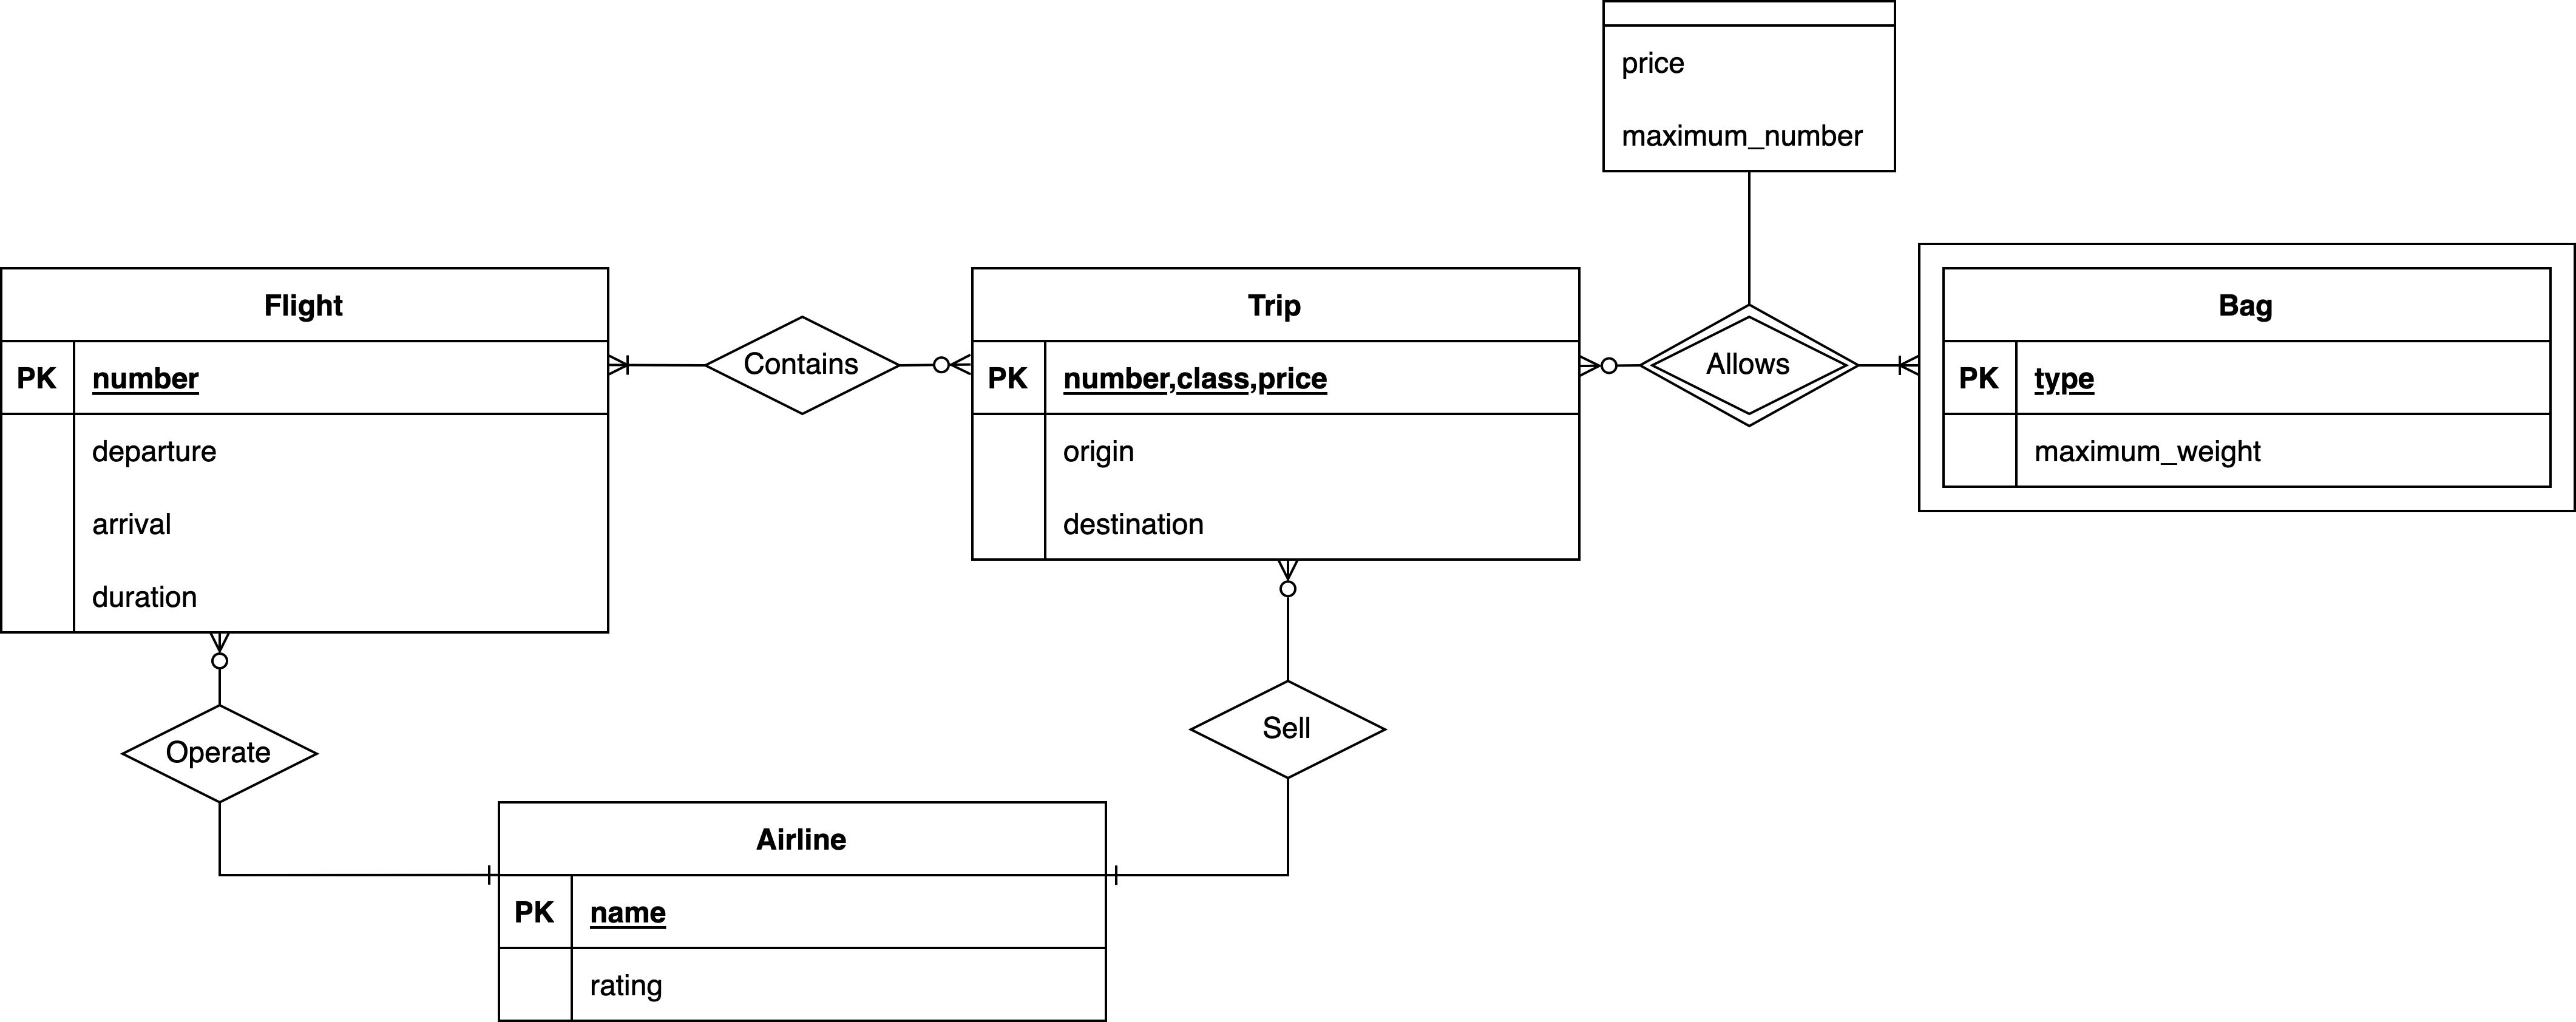entity: (0, 265, 613, 636), (963, 260, 1587, 565), (494, 800, 1107, 1022), (1600, 0, 1901, 179)
relationship: (708, 311, 899, 417), (1186, 685, 1390, 780), (125, 707, 310, 803)
weakentity: (1916, 238, 2576, 516)
weakrelationship: (1641, 311, 1860, 426)
